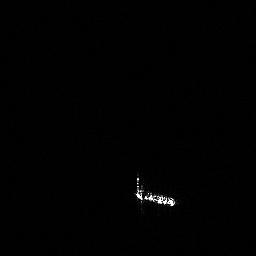ship: (130, 168, 180, 210)
